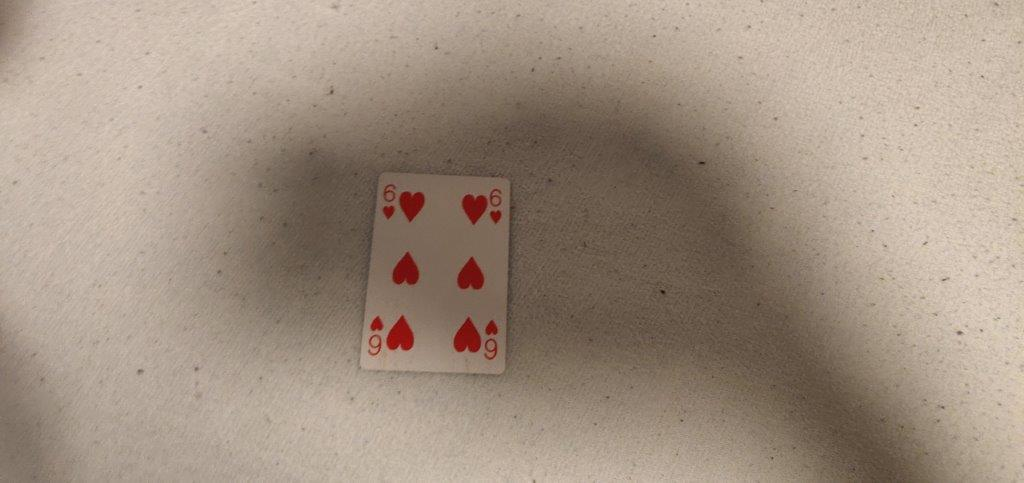6H: (380, 179, 399, 225), (488, 186, 504, 229)
